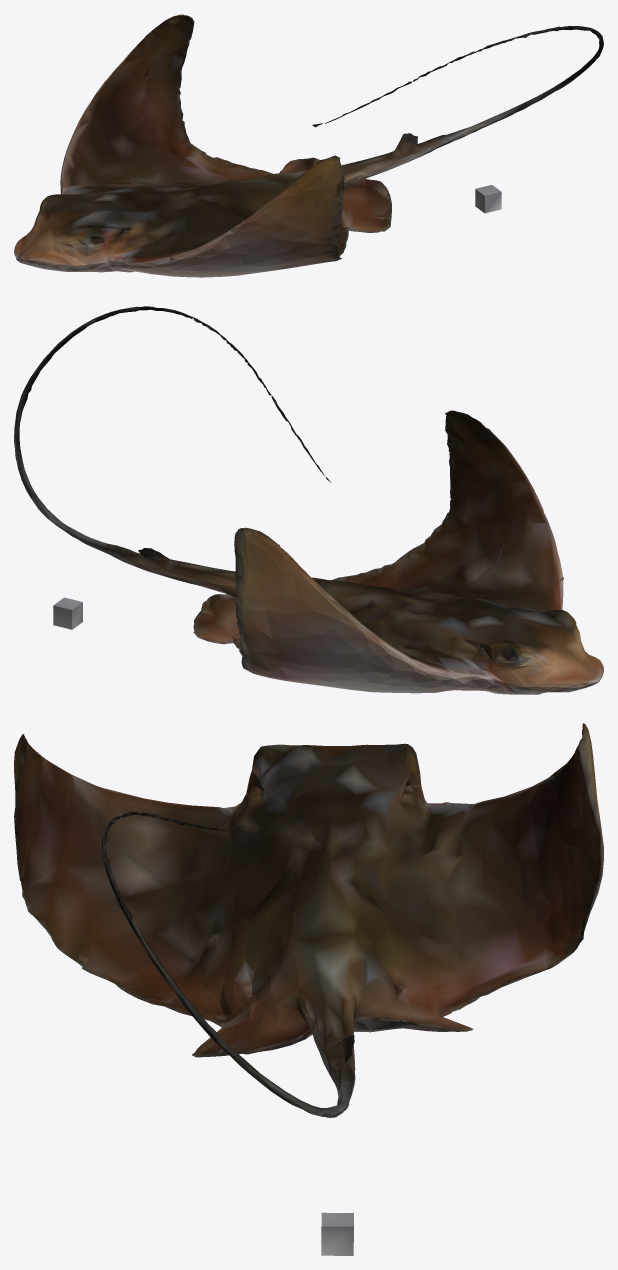
Rendered from ray.glb.
The picture shows the model from 3 angles, top to bottom: view 1: azimuth 30°, elevation 25°; view 2: azimuth 150°, elevation 25°; view 3: azimuth 270°, elevation 25°; orthographic projection. The views are drawn at different scales.
Visible parts, largest first — view 1: ray; view 2: ray; view 3: ray.
Boxes of the visible parts, x1=… form: ray: x1=14, y1=14, x2=603, y2=277; ray: x1=14, y1=306, x2=603, y2=694; ray: x1=14, y1=723, x2=603, y2=1255.
Bounding box in the file's own units: 14.07 × 5.72 × 7.87.
